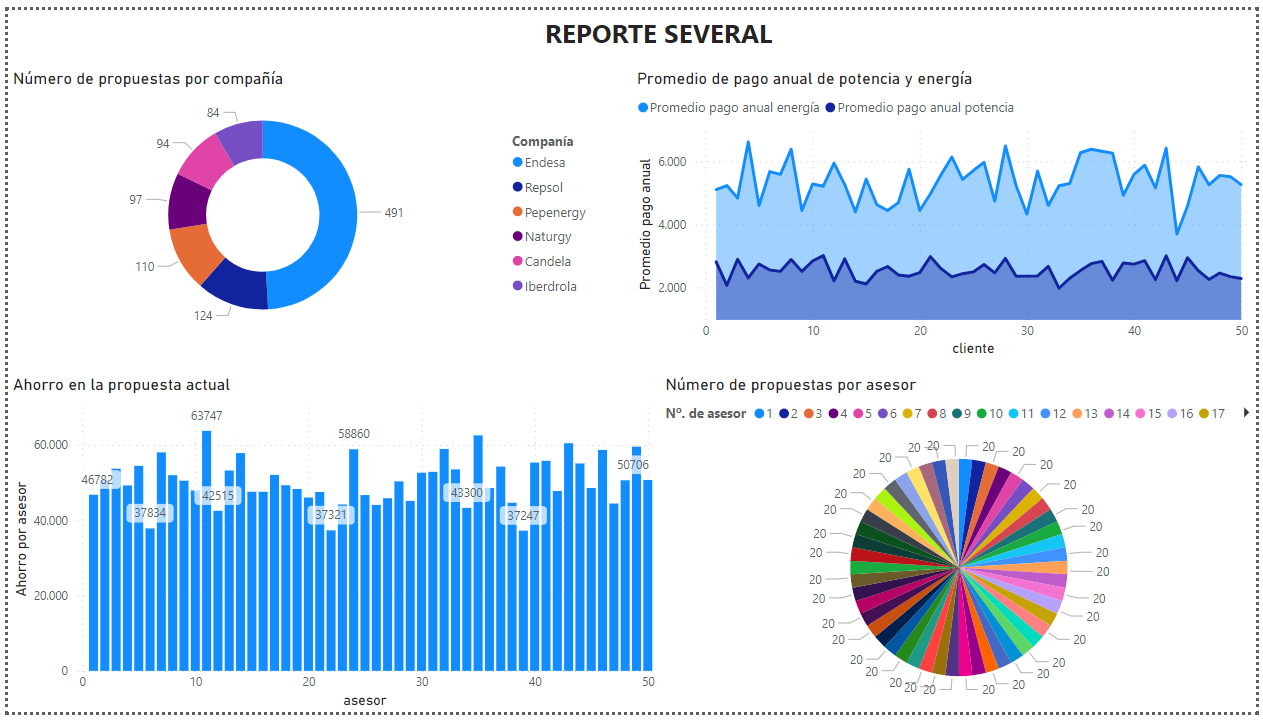

The page's visual inventory and layout, read from the dashboard file:
{"tool":"powerbi","page":{"name":"Página 1","canvas":[1280,720],"ordinal":0},"visuals":[{"type":"donutChart","title":"Número de propuestas por compañía","fields":{"Category":["totales_propuestas_for_powerbi.compania"],"Y":["CountNonNull(totales_propuestas_for_powerbi.compania)"]},"box":[0,60.6,606.9,280.5],"z":0},{"type":"lineStackedColumnComboChart","title":"Ahorro en la propuesta actual","fields":{"Category":["totales_propuestas_for_powerbi.info_id"],"Y":["Sum(totales_propuestas_for_powerbi.ahorro_fact_actual)"]},"box":[0,373.6,668.6,346.6],"z":1000},{"type":"areaChart","title":"Promedio de pago anual de potencia y energía","fields":{"Category":["totales_propuestas_for_powerbi.info_id"],"Y":["Avg(totales_propuestas_for_powerbi.t_pago_anual_energia)","Avg(totales_propuestas_for_powerbi.t_pago_anual_potencia)"]},"box":[640.6,60.6,639.4,299.5],"z":2000},{"type":"pieChart","title":"Número de propuestas por asesor","fields":{"Y":["CountNonNull(totales_propuestas_for_powerbi.info_id)"],"Category":["totales_propuestas_for_powerbi.info_id"]},"box":[668.6,373.6,611.4,346.6],"z":3000},{"type":"textbox","box":[56.1,0,1223.9,50.5],"z":3002}]}

Visuals, with their boxes in screenshot pixels (x1, y1, x2, y2), scaled from the page's 1280x720 canvas onto the 1263x721 screenshot:
"Número de propuestas por compañía" donutChart: bbox=[0, 61, 599, 342]
"Ahorro en la propuesta actual" lineStackedColumnComboChart: bbox=[0, 374, 660, 720]
"Promedio de pago anual de potencia y energía" areaChart: bbox=[632, 61, 1262, 361]
"Número de propuestas por asesor" pieChart: bbox=[660, 374, 1262, 720]
textbox: bbox=[55, 0, 1262, 51]
